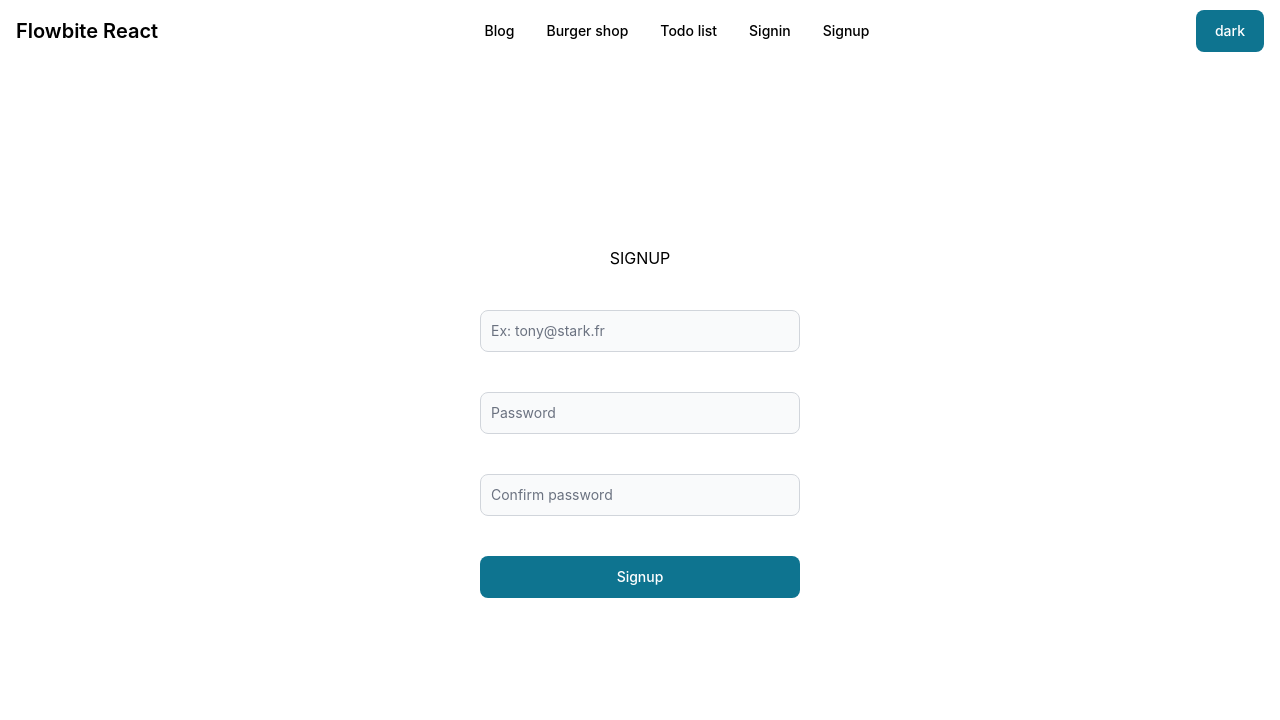
Should redirect to todo page and display 3 todos › Should display alert
In the field with placeholder "Ex: tony@stark.fr": coordinates (640, 331) [480,310,800,352], type "catwoman@gmail.com"
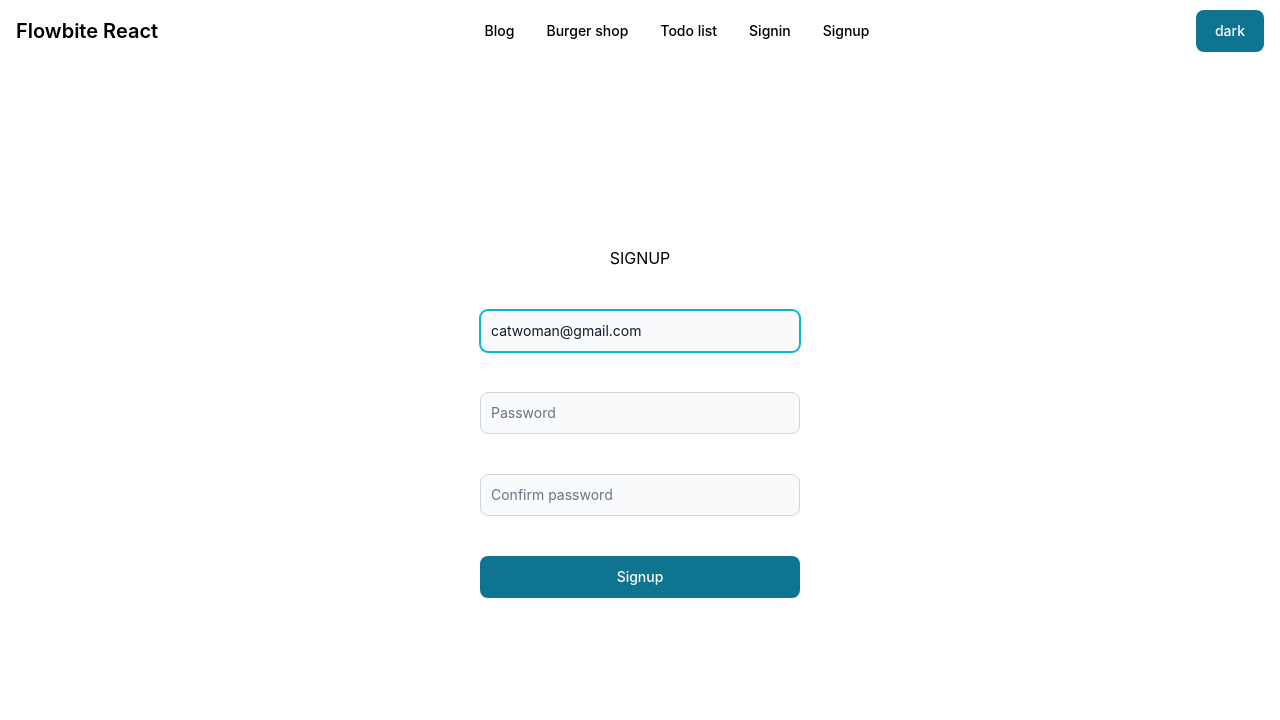
In the password field with placeholder "Password": coordinates (640, 413) [480,392,800,434], type "1234567"
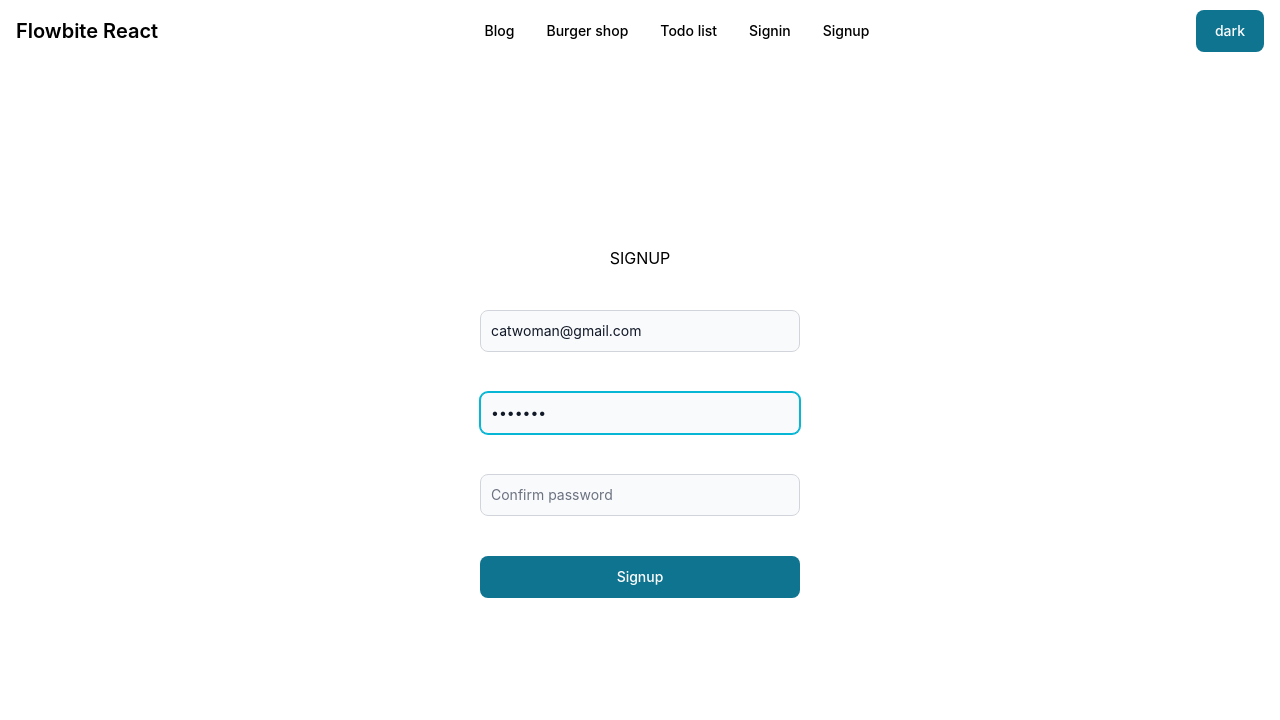
In the password field with placeholder "Confirm password": coordinates (640, 495) [480,474,800,516], type "12345678"
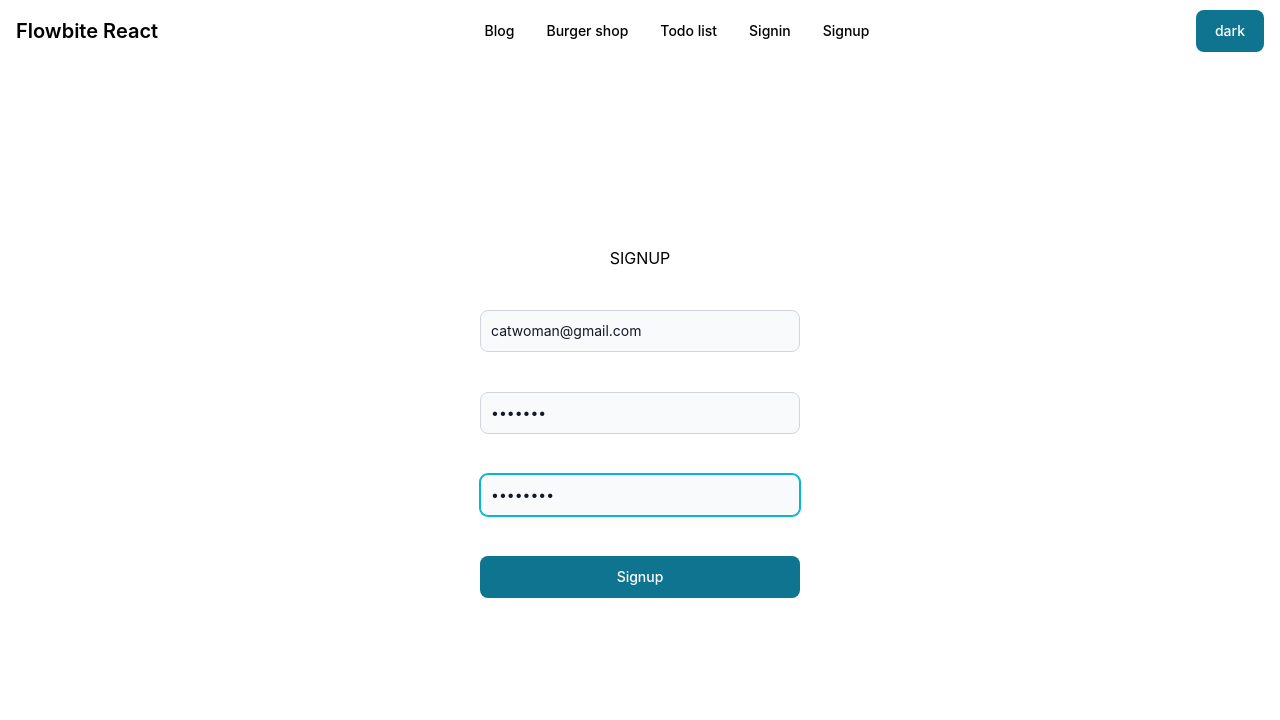
Click the button with test id "signup": coordinates (640, 577) [480,556,800,598]
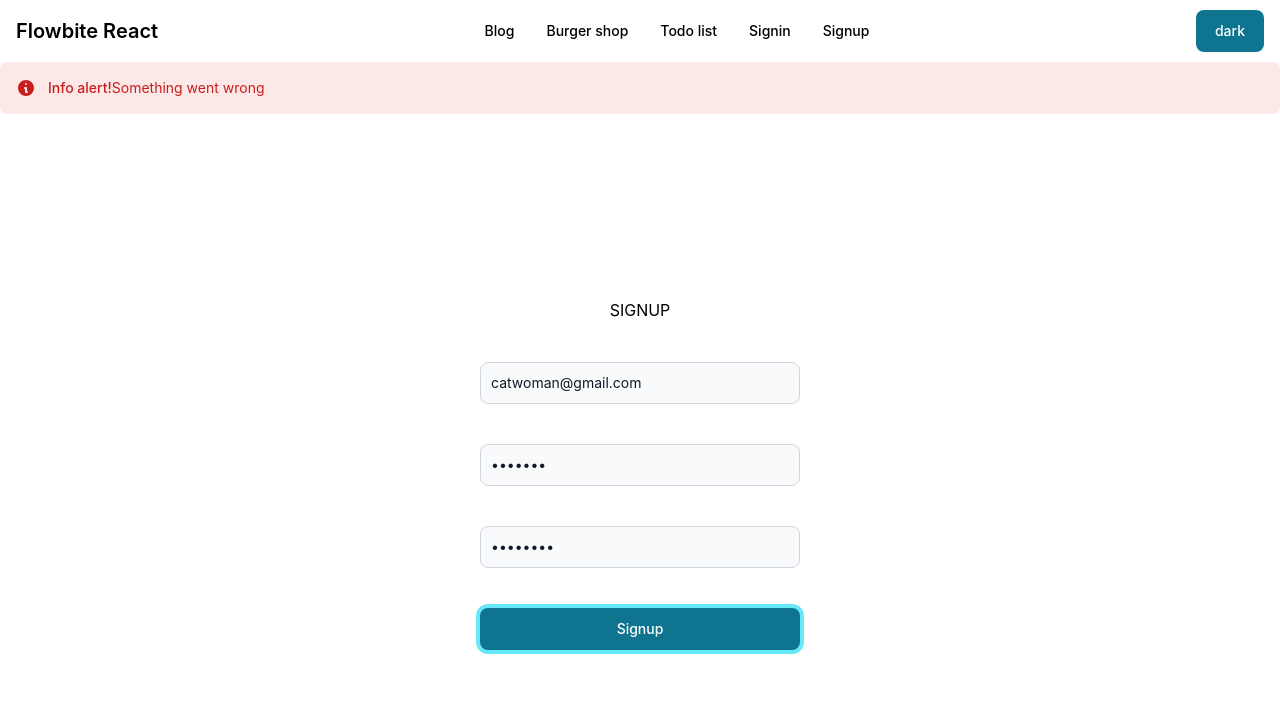
Check: the message "Info alert!Something went wrong" is shown, box [0,62,1279,114]
